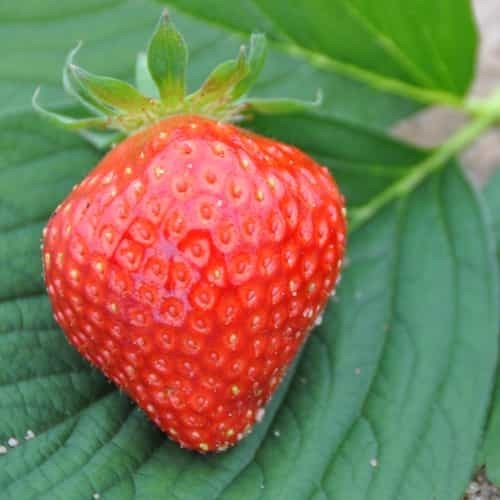ripe_strawberry: (21, 6, 334, 351)
